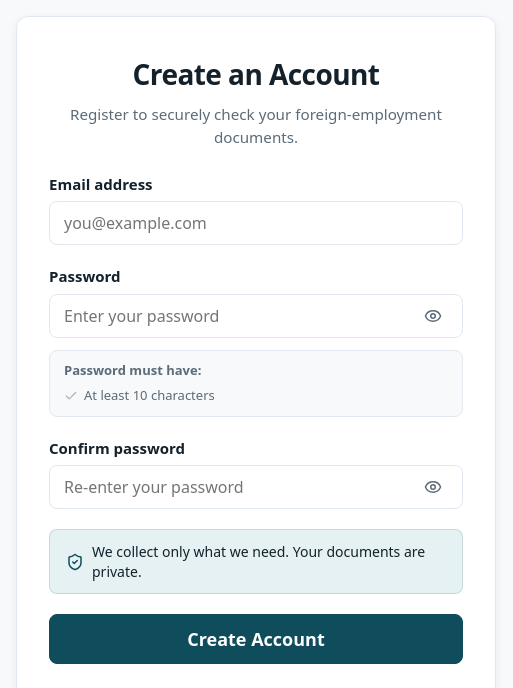
it: RegisterPage validation › shows an error when passwords do not match
Type "applicant@example.com" into the field labelled "Email address" at (256, 223), box [49, 201, 463, 245]
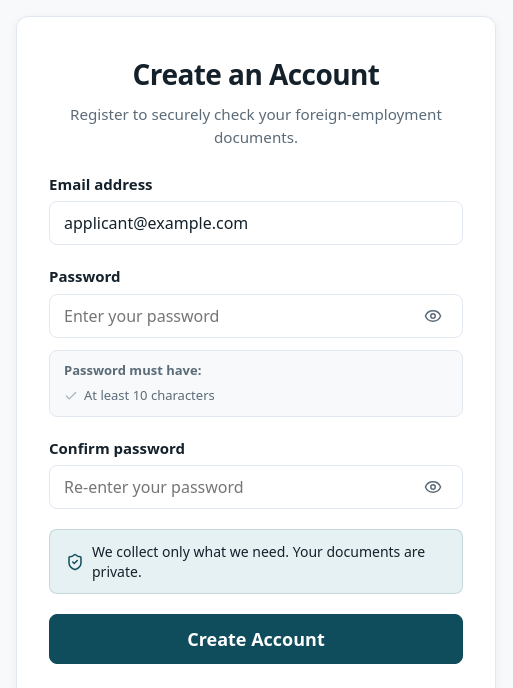
Type "securepassword123" into the password field labelled "Password" at (256, 316), box [49, 294, 463, 338]
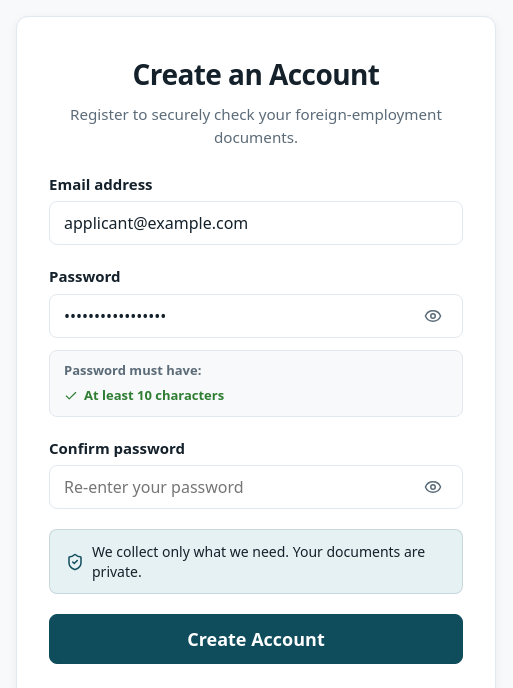
Type "differentpassword456" into the password field labelled "Confirm password" at (256, 487), box [49, 465, 463, 509]
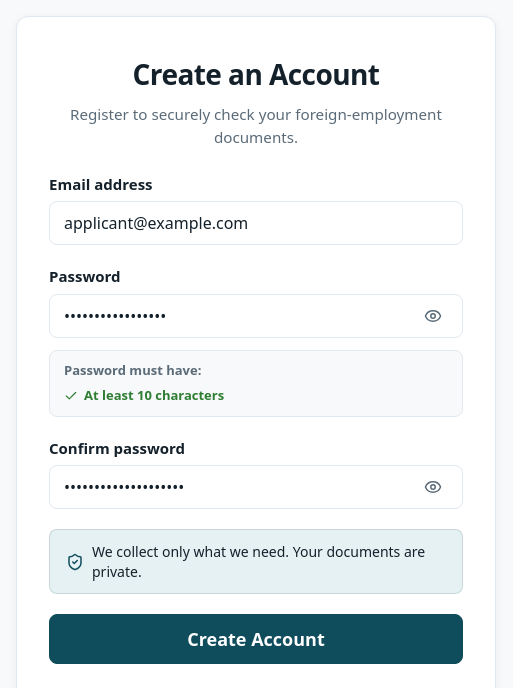
Click the button "Create Account" at (256, 639), box [49, 614, 463, 664]
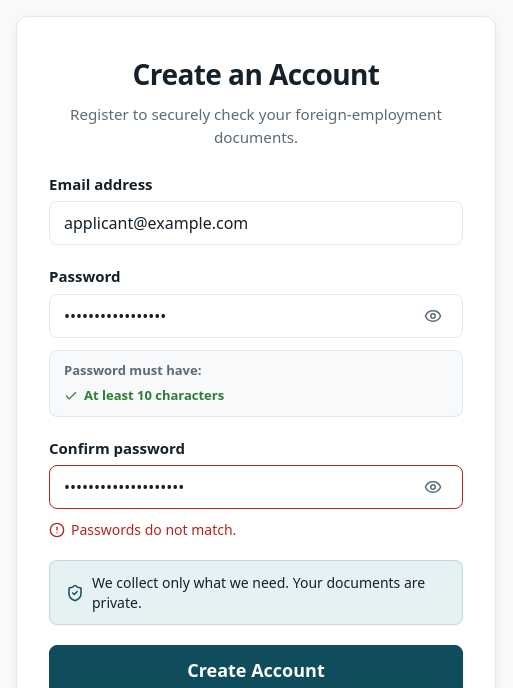
Check: the text "Passwords do not match." is shown, box [71, 519, 236, 540]
